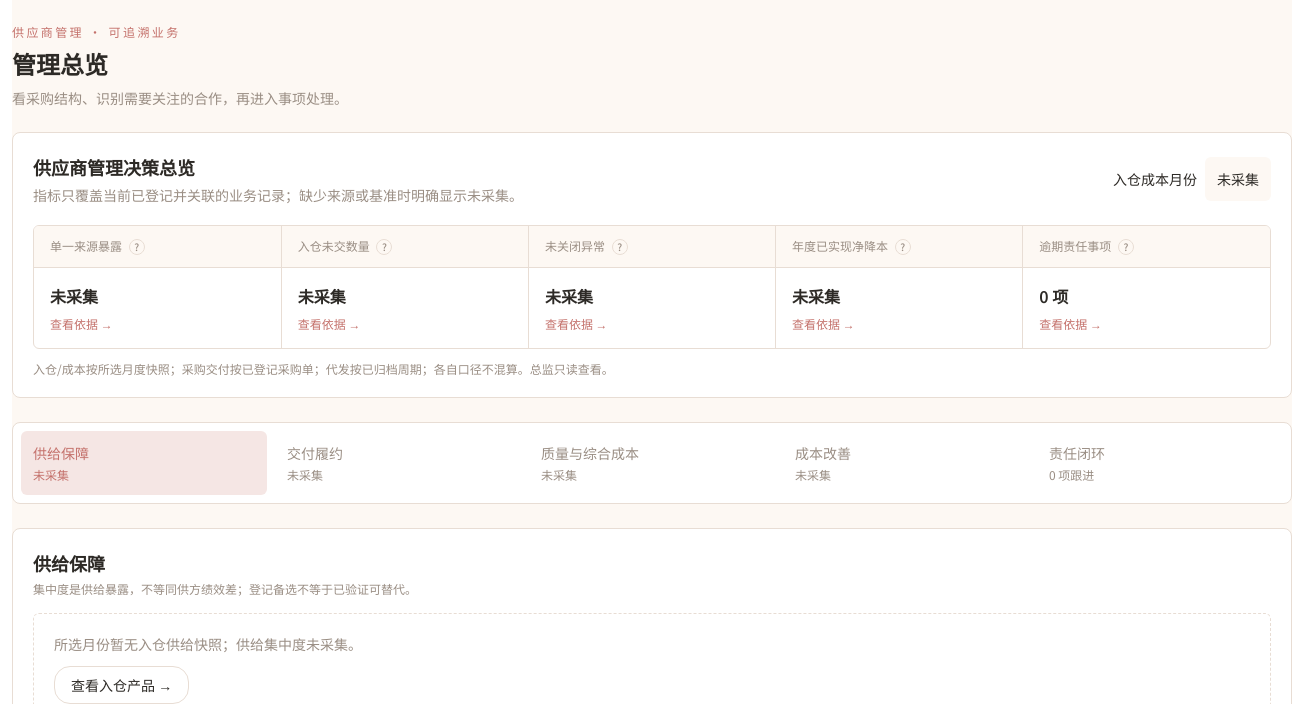
Test: shows empty overview without invented spend or fake suppliers
The image size is (1292, 704).
Expected: the heading "供应商管理决策总览" is shown, [33,154,195,180]
Expected: the element "供给保障" shows "供给集中度未采集", [54,634,362,654]
Click the tab "交付履约 未采集": [398, 463] box [275,431,521,495]
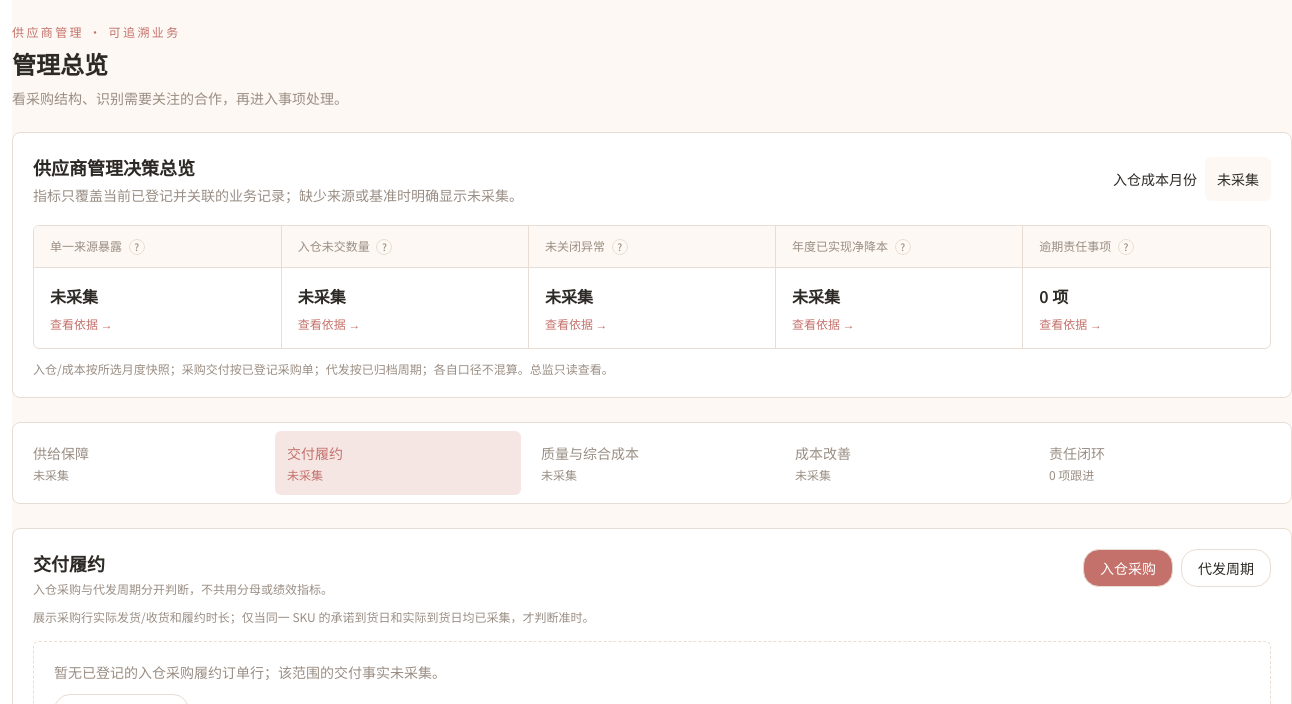
Click the button "代发周期": [1226, 568] box [1181,549,1271,587]
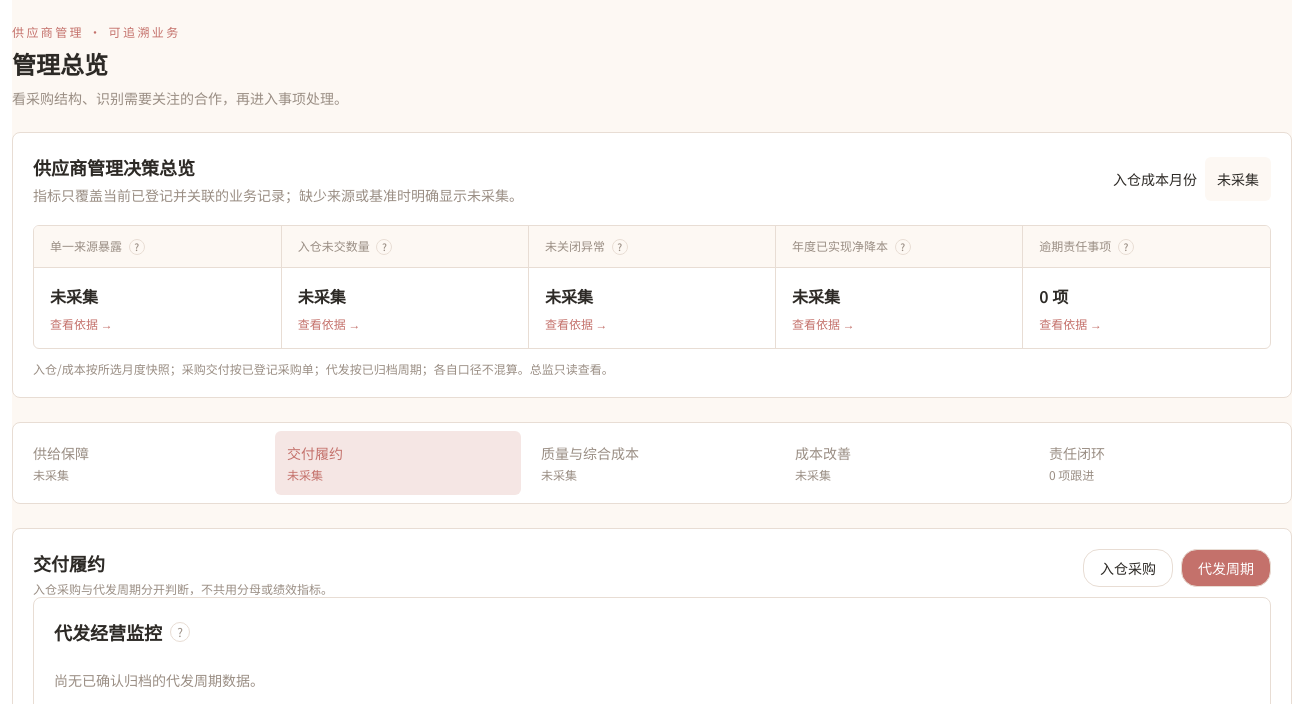
Now the heading "代发经营监控" is shown, box [54,618,162,646]
